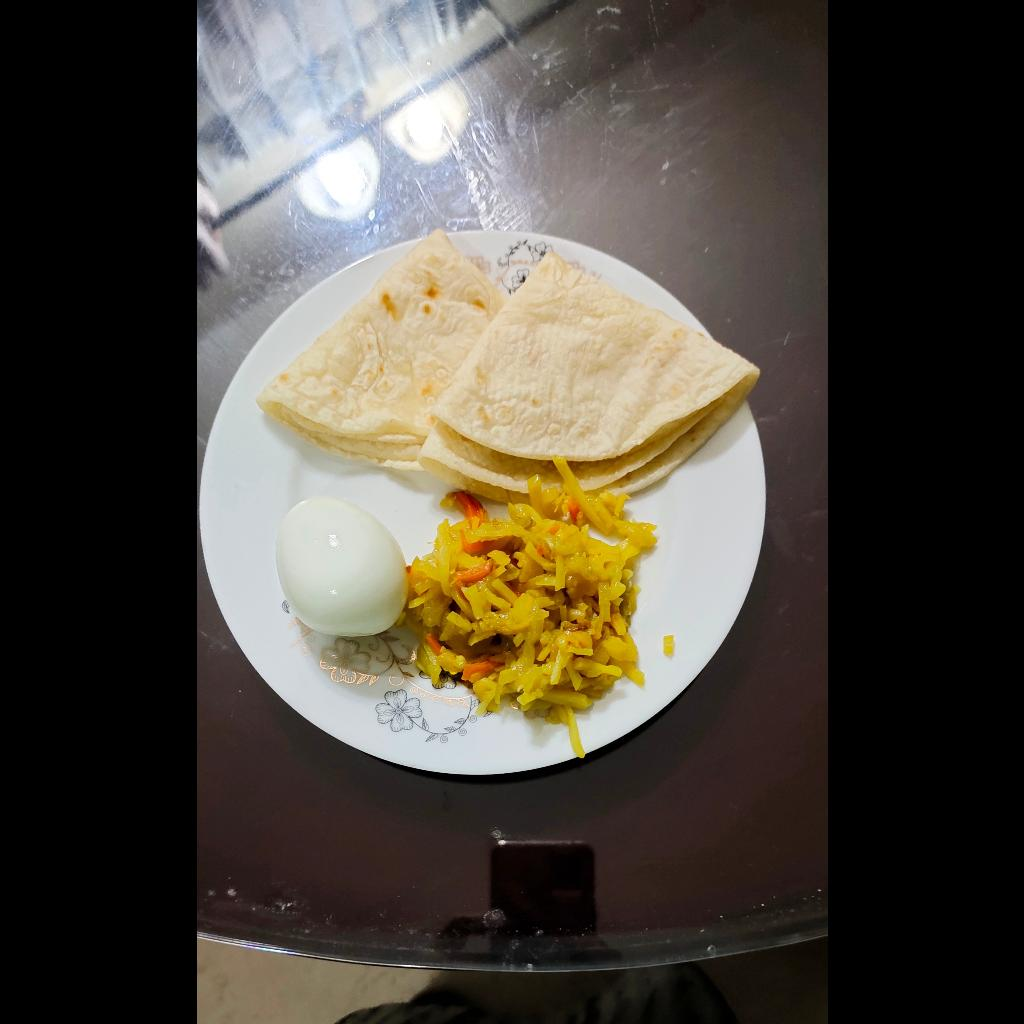egg-boiled: (273, 494, 405, 640)
ruti: (256, 227, 762, 501)
vegetable: (405, 457, 659, 764)
